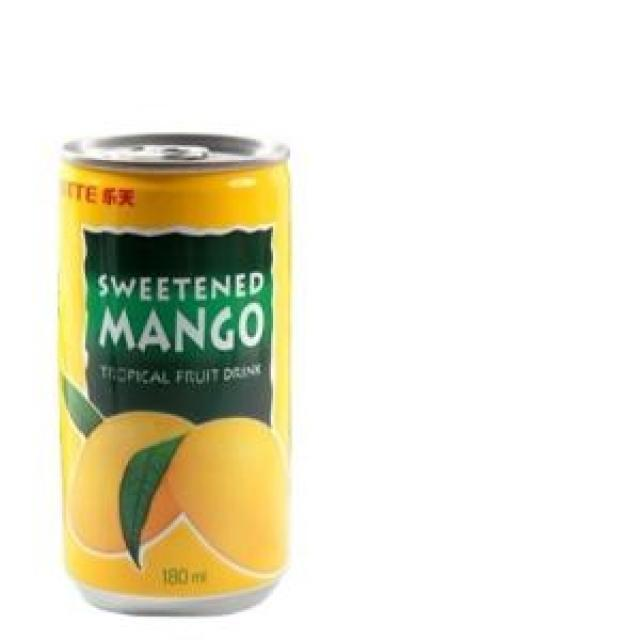can: (30, 91, 324, 629)
